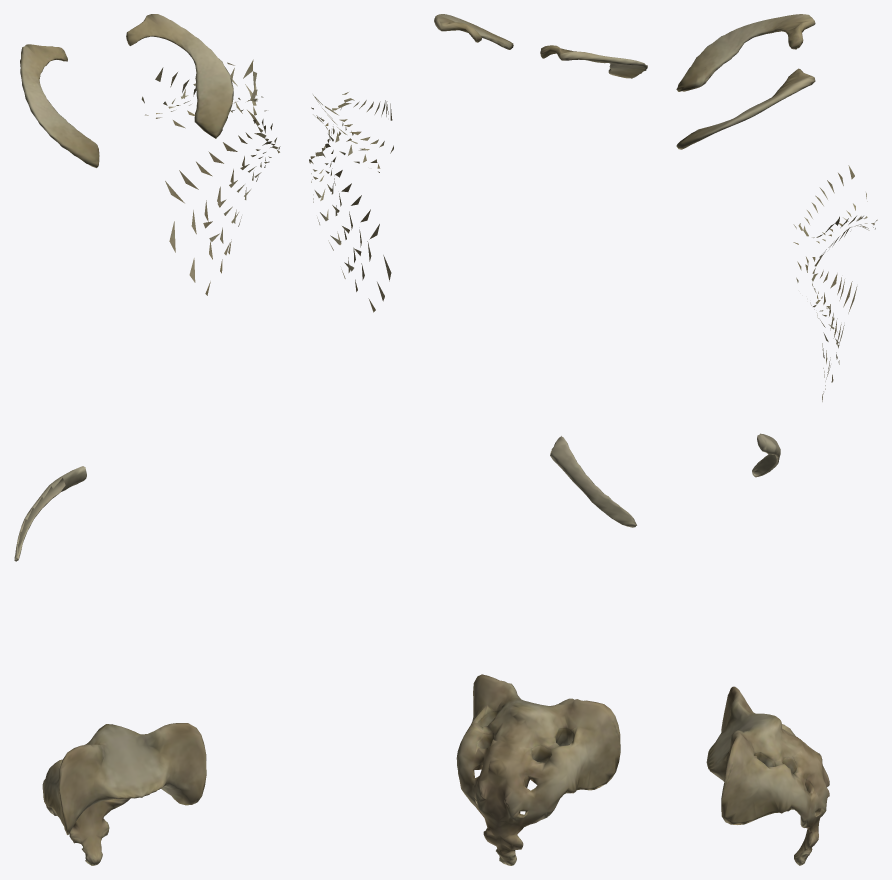
File: HumanSkeleton_part_3.fbx
3 views of the same model, side by side, from view 1: azimuth 30°, elevation 25°; view 2: azimuth 150°, elevation 25°; view 3: azimuth 270°, elevation 25° (orthographic).
Visible parts, largest first — view 1: Skeletal_Esqueleto_0.003; view 2: Skeletal_Esqueleto_0.003; view 3: Skeletal_Esqueleto_0.003.
Boxes of the visible parts, <box> form: Skeletal_Esqueleto_0.003: <box>14,14,280,865</box>; Skeletal_Esqueleto_0.003: <box>309,14,647,865</box>; Skeletal_Esqueleto_0.003: <box>676,14,877,865</box>.
Size of the model in its own units: 2237 by 6001 by 1338.
